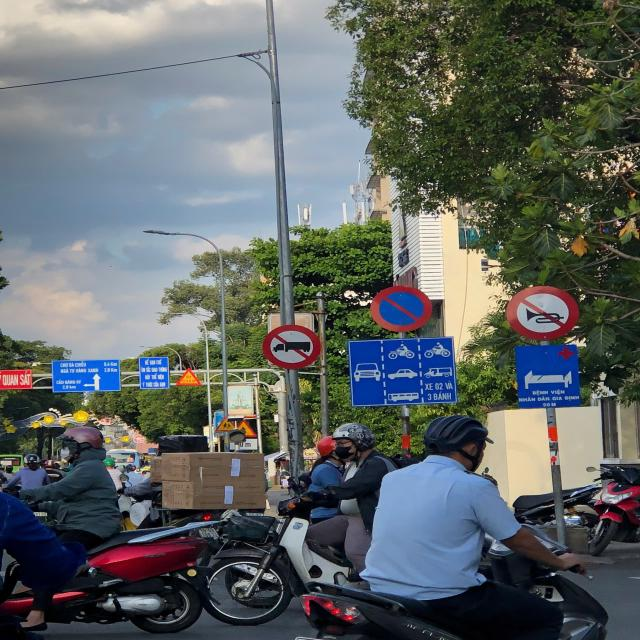Bien bao cam do xe: (364, 280, 438, 338)
Bien bao cam xe so-mi ro-mooc: (255, 316, 329, 374)
